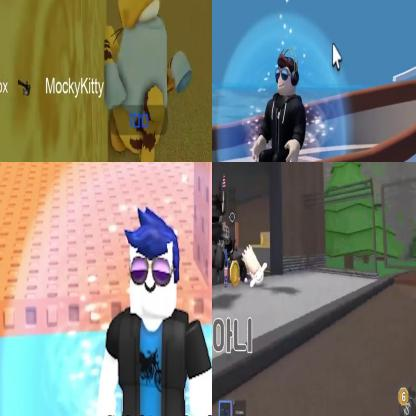Roblox-Avatar: (96, 206, 212, 416), (105, 1, 194, 162), (253, 48, 308, 162), (213, 181, 234, 311), (241, 246, 268, 289)
